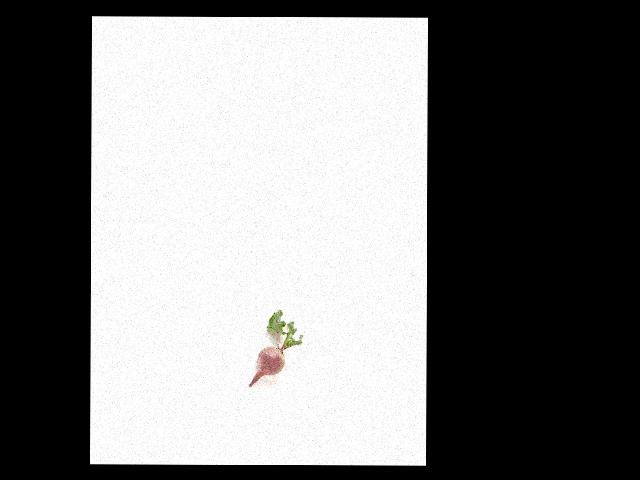beet: (248, 309, 302, 386)
